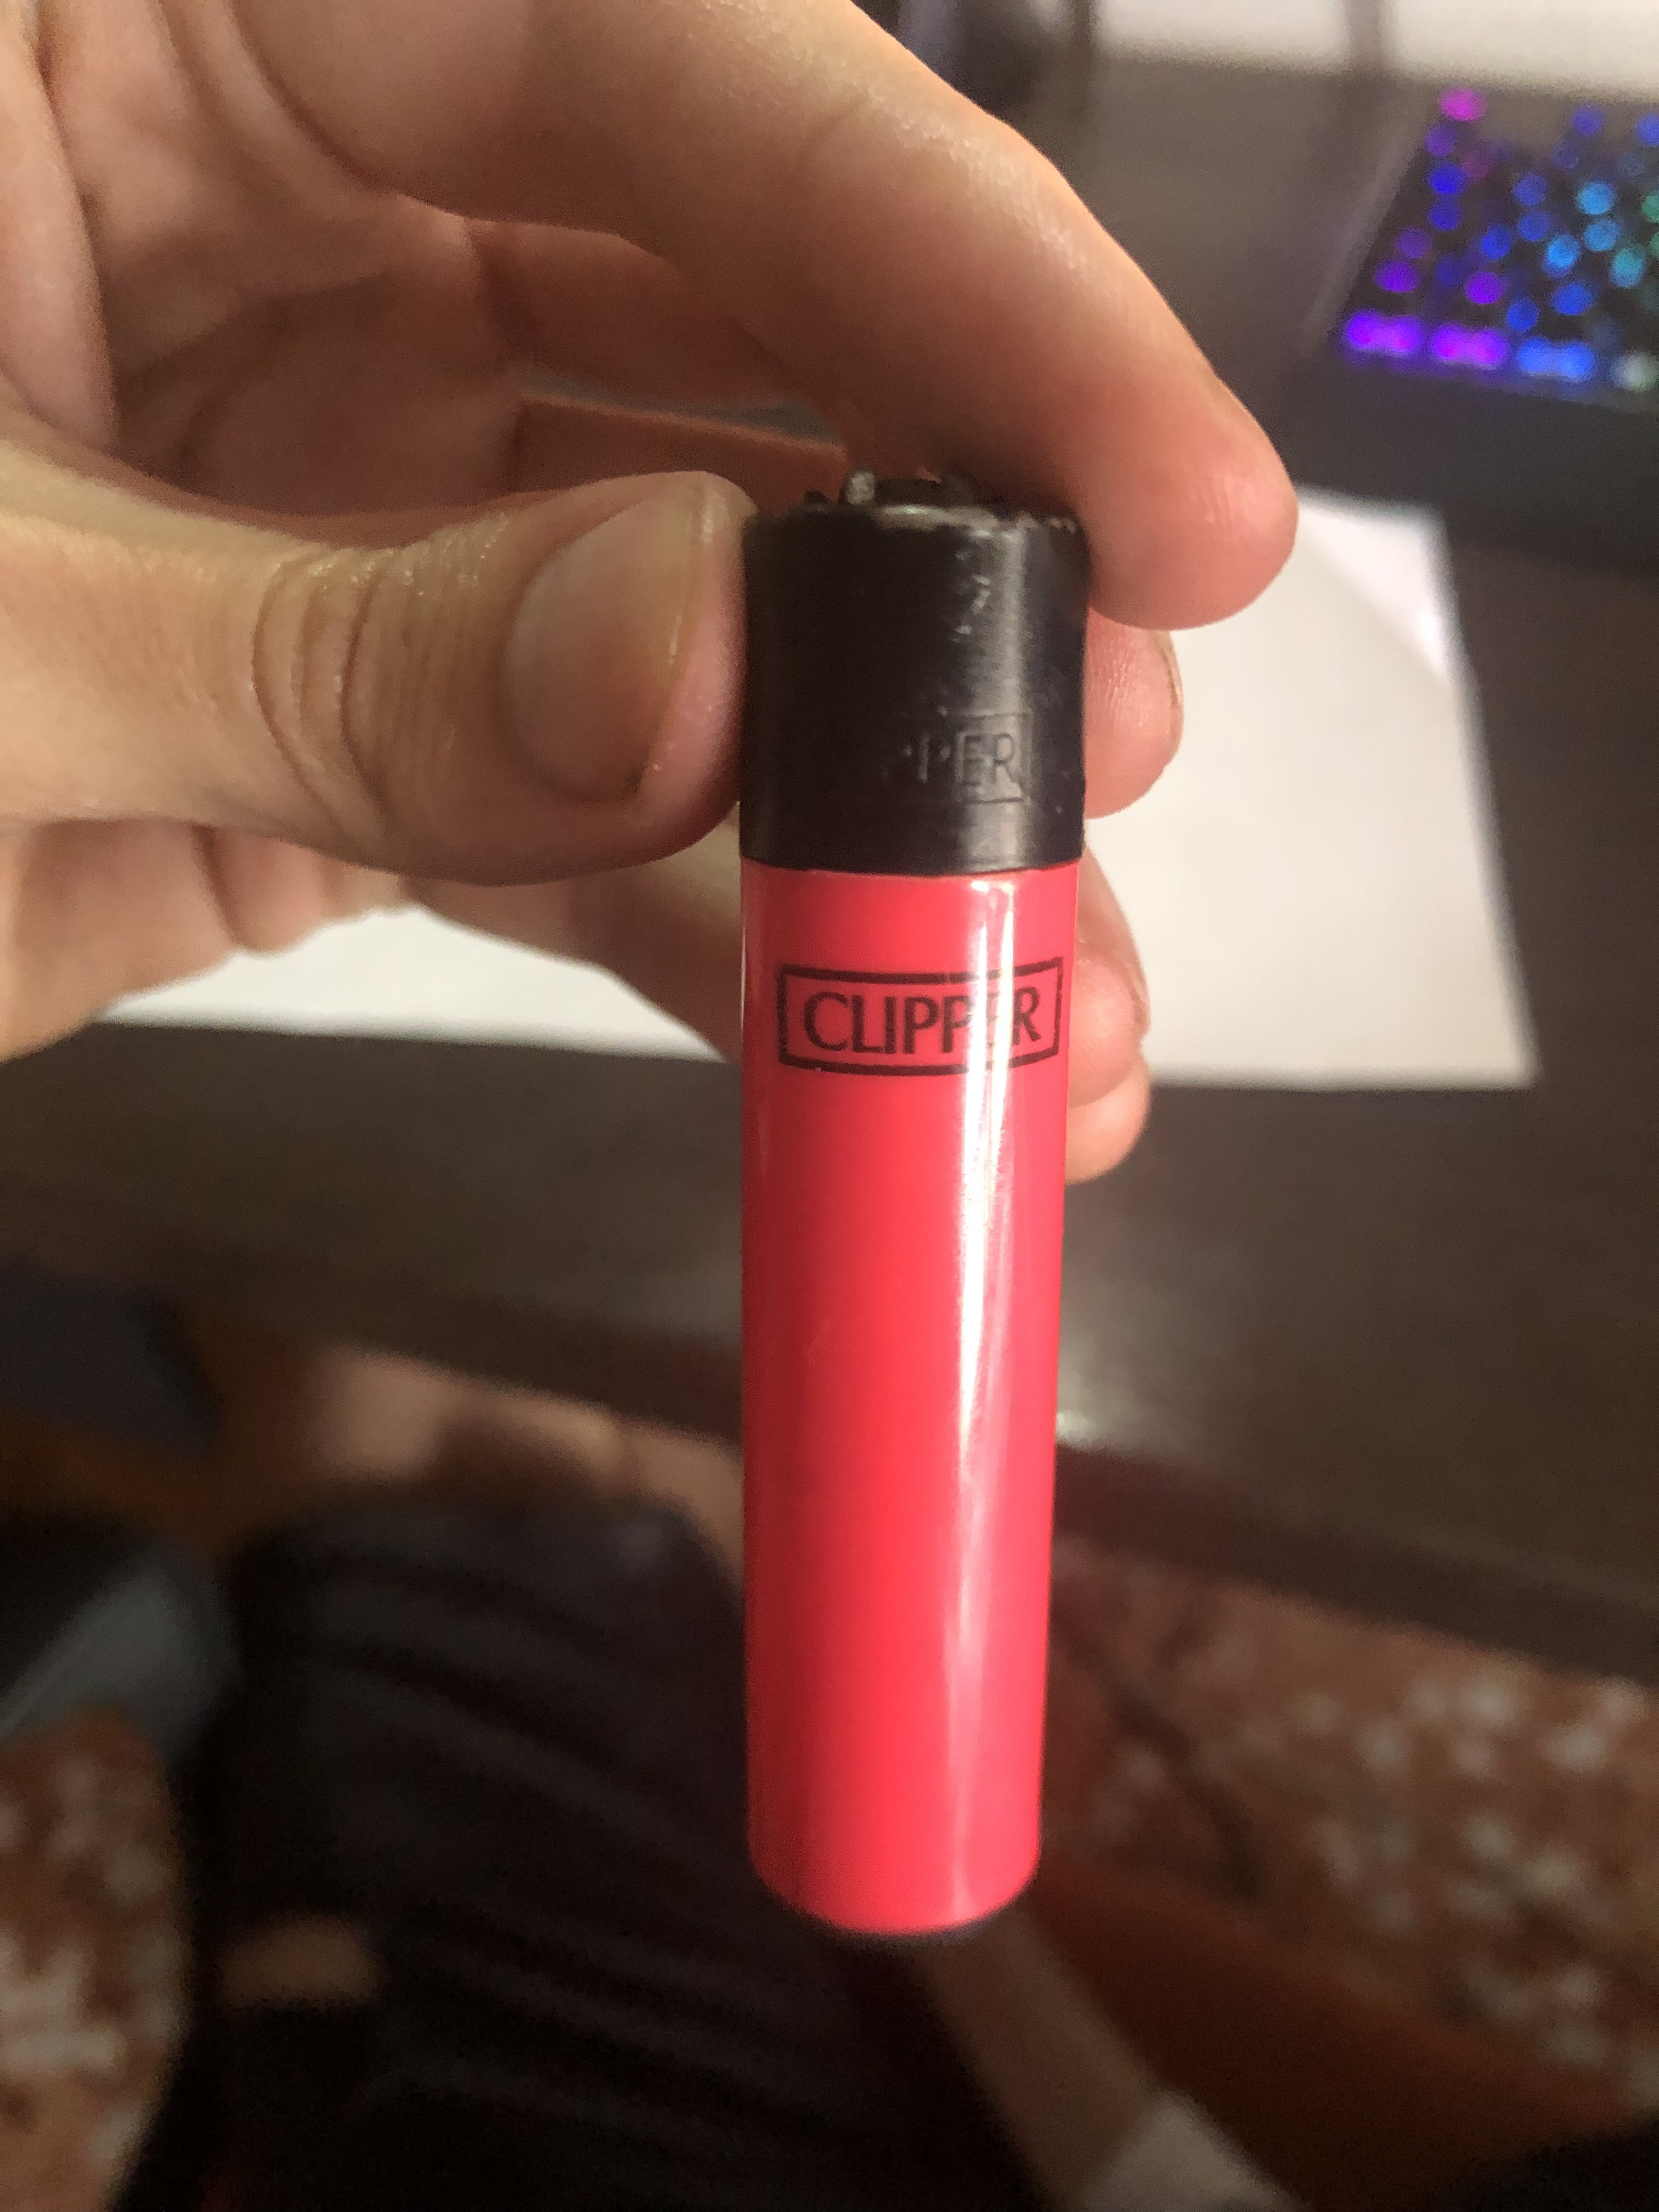Mechero: (739, 489, 1112, 1958)
